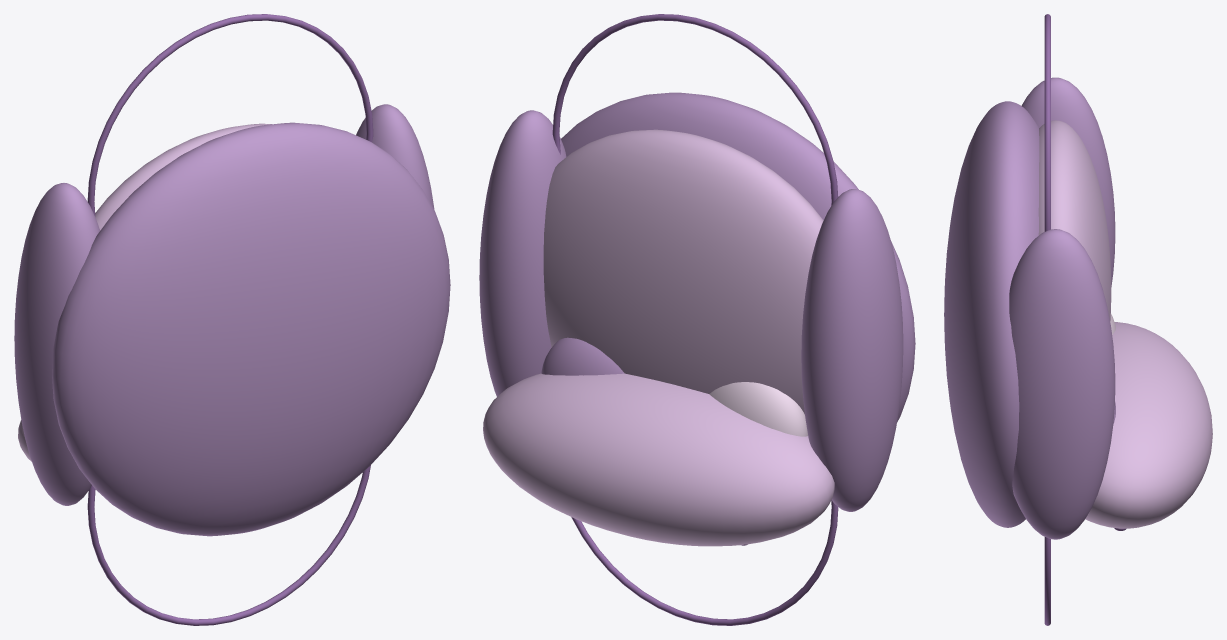
Rendered from reclining-lounge.glb.
3 renders of one model, left to right at view 1: azimuth 30°, elevation 25°; view 2: azimuth 150°, elevation 25°; view 3: azimuth 270°, elevation 25°, orthographic. The views are drawn at different scales.
Visible parts, largest first — view 1: Lounge_Base, Arm_Left, Seat_Piping.001, Seat_Piping, Arm_Right, Lounge_Seat; view 2: Lounge_Seat, Lounge_Back, Arm_Left, Arm_Right, Lounge_Base, Seat_Piping.001, Pillow, Seat_Piping, Pillow.001; view 3: Lounge_Base, Arm_Right, Lounge_Back, Lounge_Seat, Arm_Left, Seat_Piping.001, Seat_Piping.
Part boxes in pixels (box(x1,y1,x2,y2)): Lounge_Base: box(52, 122, 450, 536); Arm_Left: box(14, 183, 100, 505); Seat_Piping.001: box(87, 14, 373, 216); Seat_Piping: box(87, 465, 370, 625); Arm_Right: box(356, 104, 434, 209); Lounge_Seat: box(95, 123, 271, 230); Lounge_Seat: box(543, 129, 823, 414); Lounge_Back: box(483, 373, 834, 546); Arm_Left: box(801, 189, 903, 511); Arm_Right: box(479, 110, 566, 396); Lounge_Base: box(561, 92, 915, 422); Seat_Piping.001: box(552, 14, 838, 205); Pillow: box(709, 382, 807, 436); Seat_Piping: box(571, 500, 838, 625); Pillow.001: box(541, 337, 624, 375); Lounge_Base: box(944, 101, 1039, 527); Arm_Right: box(1009, 229, 1115, 539); Lounge_Back: box(1085, 322, 1212, 528); Lounge_Seat: box(1038, 120, 1111, 321); Arm_Left: box(1021, 77, 1115, 286); Seat_Piping.001: box(1044, 14, 1050, 231); Seat_Piping: box(1044, 537, 1050, 625).
Size of the model in its own units: 3.38 by 4.84 by 2.02.
